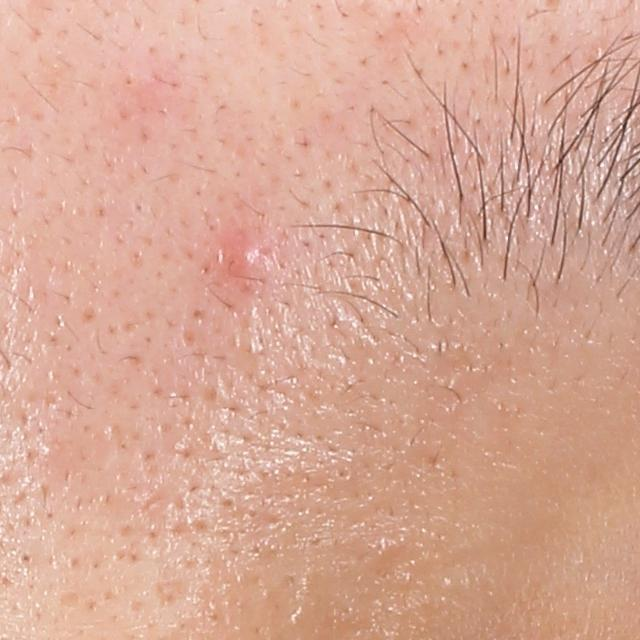comedo: (118, 69, 141, 90), (17, 548, 37, 569), (335, 462, 351, 480)
papule: (212, 226, 275, 290)
